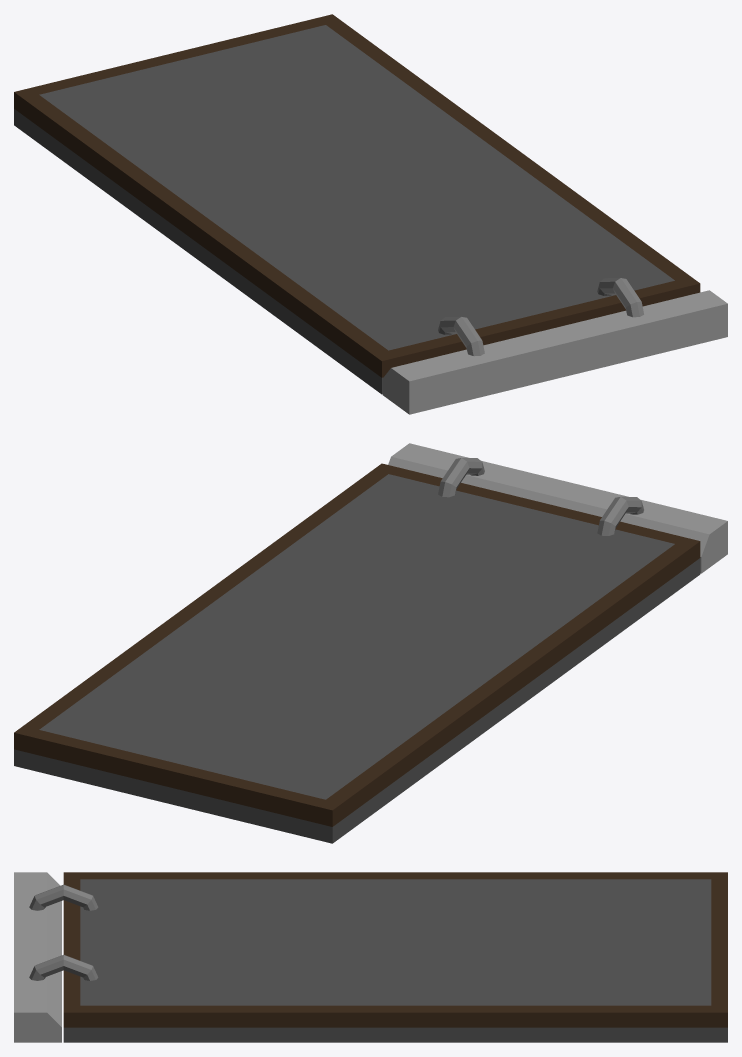
The model's file is Door Flap.fbx.
The picture shows the model from 3 angles, top to bottom: view 1: azimuth 30°, elevation 25°; view 2: azimuth 150°, elevation 25°; view 3: azimuth 270°, elevation 25°; orthographic projection. The views are drawn at different scales.
Parts seen in each view (by area): view 1: Flap, Door Flap; view 2: Flap, Door Flap; view 3: Flap, Door Flap.
Boxes of the visible parts, x1,y1,x2,y2 form: Flap: [14, 14, 700, 394]; Door Flap: [382, 290, 727, 414]; Flap: [14, 458, 700, 843]; Door Flap: [388, 443, 727, 573]; Flap: [29, 872, 727, 1042]; Door Flap: [14, 872, 61, 1042].
Size of the model in its own units: 200 by 35 by 430.
